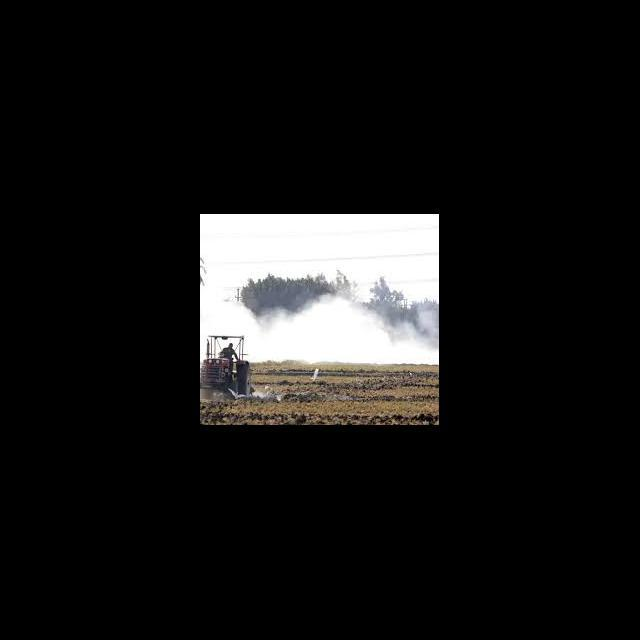Smoke: (202, 295, 440, 364)
